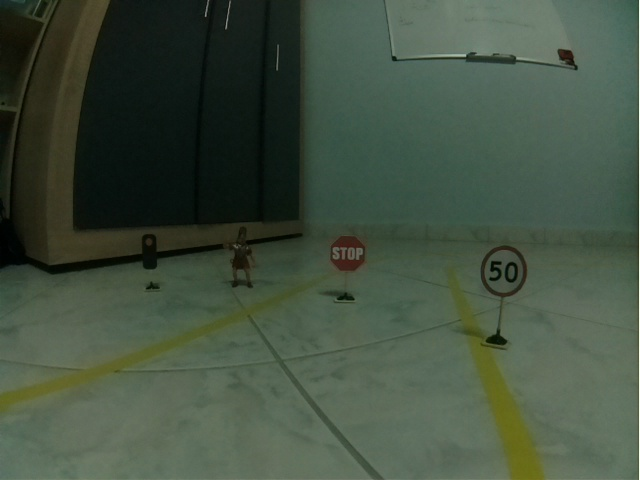Person: (223, 226, 258, 289)
Red Traffic Light: (141, 233, 157, 269)
Speed Limit 50: (480, 245, 527, 298)
Stop: (330, 234, 366, 272)
